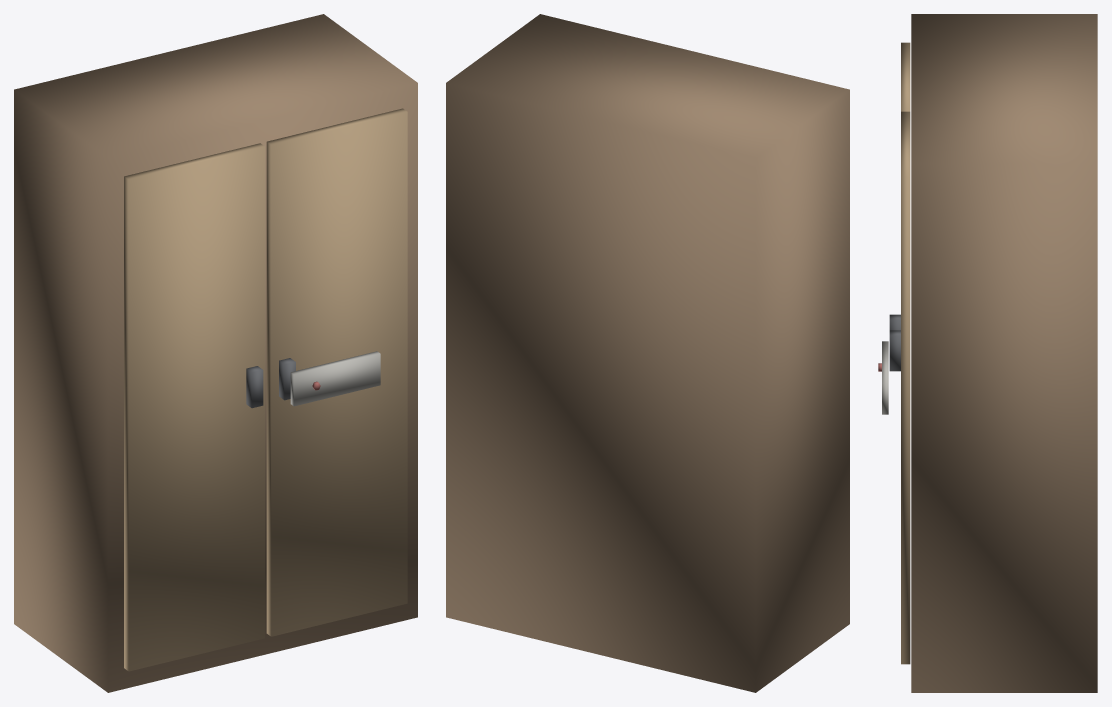
The model's file is photo_chemical_cabinet__tall.glb.
The picture shows the model from 3 angles, left to right: view 1: azimuth 30°, elevation 25°; view 2: azimuth 150°, elevation 25°; view 3: azimuth 270°, elevation 25°; orthographic projection.
Parts seen in each view (by area): view 1: world; view 2: world; view 3: world.
Part boxes in pixels (x1,y1,x2,y2): world: (14,14,417,692); world: (446,14,849,692); world: (878,14,1097,692).
Bounding box in the file's own units: 0.95 × 1.57 × 0.5885.
